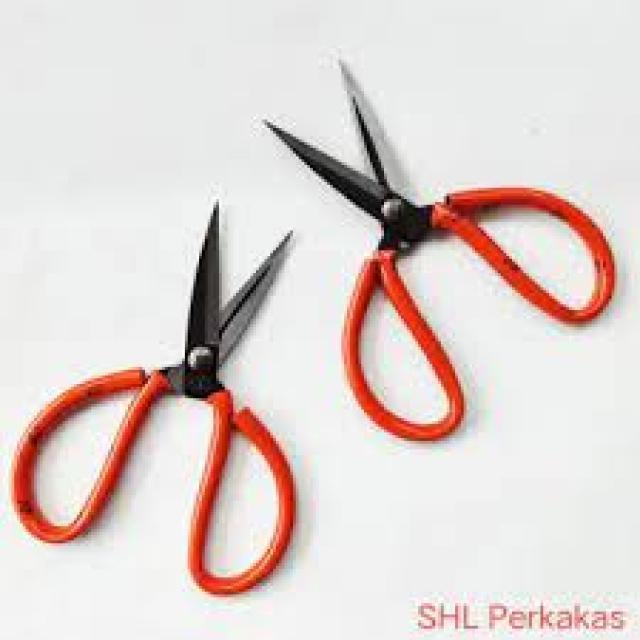Scissors: (257, 43, 631, 462), (11, 178, 326, 610)
